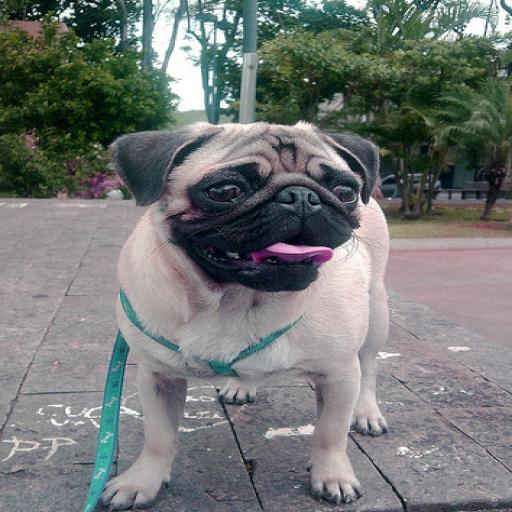dog_face: (98, 122, 378, 308)
